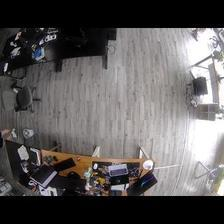normal: (1, 127, 17, 145)
